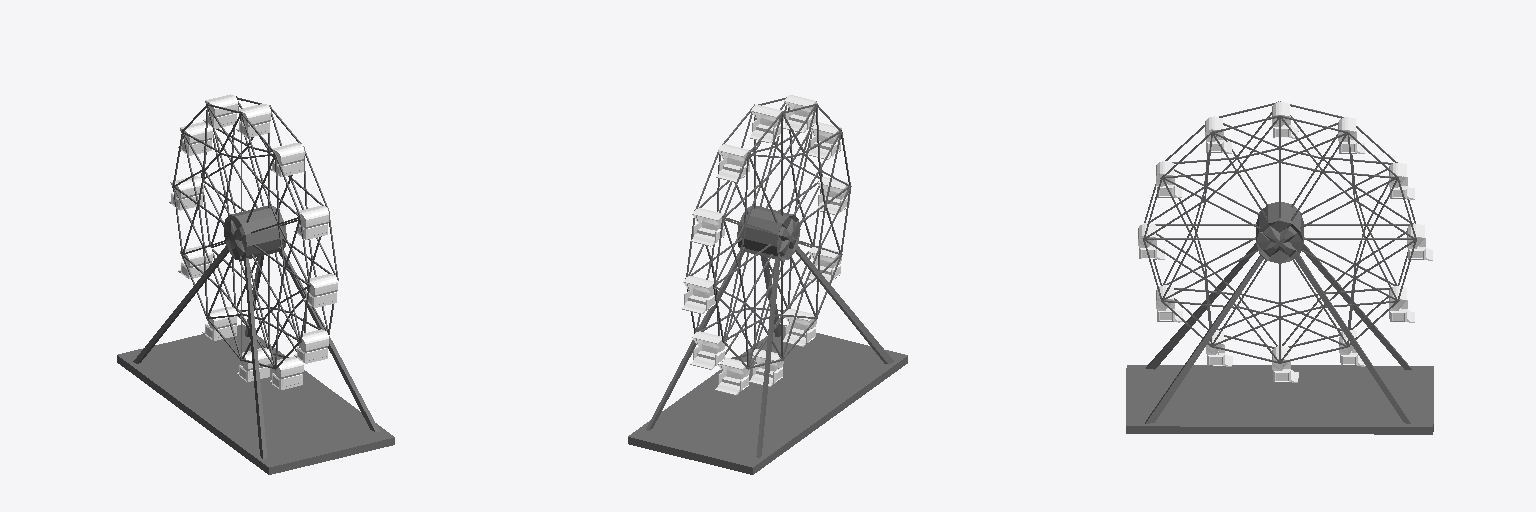
The model's file is ferris.obj.
The picture shows the model from 3 angles: view 1: azimuth 30°, elevation 25°; view 2: azimuth 150°, elevation 25°; view 3: azimuth 270°, elevation 25°; orthographic projection.
Parts seen in each view (by area): view 1: polySurface2; view 2: polySurface2; view 3: polySurface2.
Part boxes in pixels (x1,y1,x2,y2): polySurface2: (117, 94, 394, 474); polySurface2: (628, 95, 907, 474); polySurface2: (1126, 101, 1433, 434).
Bounding box in the file's own units: 16 × 35.43 × 33.57.